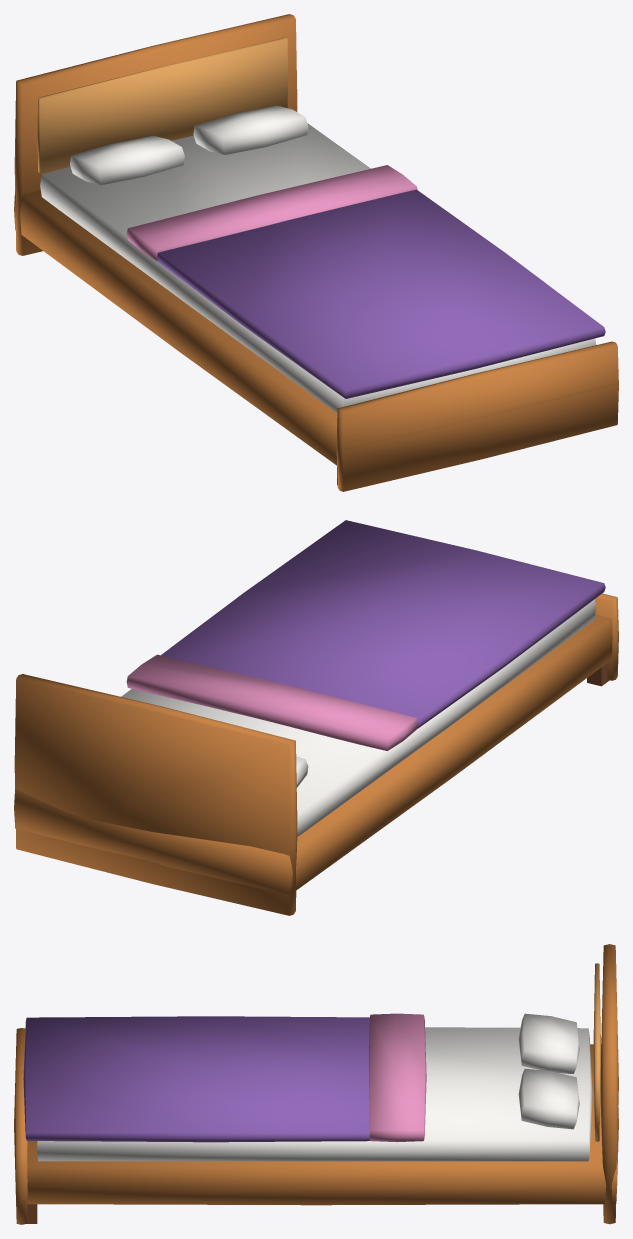
Rendered from bed_single.glb.
3 views of the same model, one above another, from view 1: azimuth 30°, elevation 25°; view 2: azimuth 150°, elevation 25°; view 3: azimuth 270°, elevation 25° (orthographic). The views are drawn at different scales.
Parts seen in each view (by area): view 1: root; view 2: root; view 3: root.
Part boxes in pixels (bbox=[...]): root: bbox=[14, 14, 618, 491]; root: bbox=[14, 520, 618, 915]; root: bbox=[14, 944, 618, 1224].
Size of the model in its own units: 1.9 by 1.15 by 3.9.
